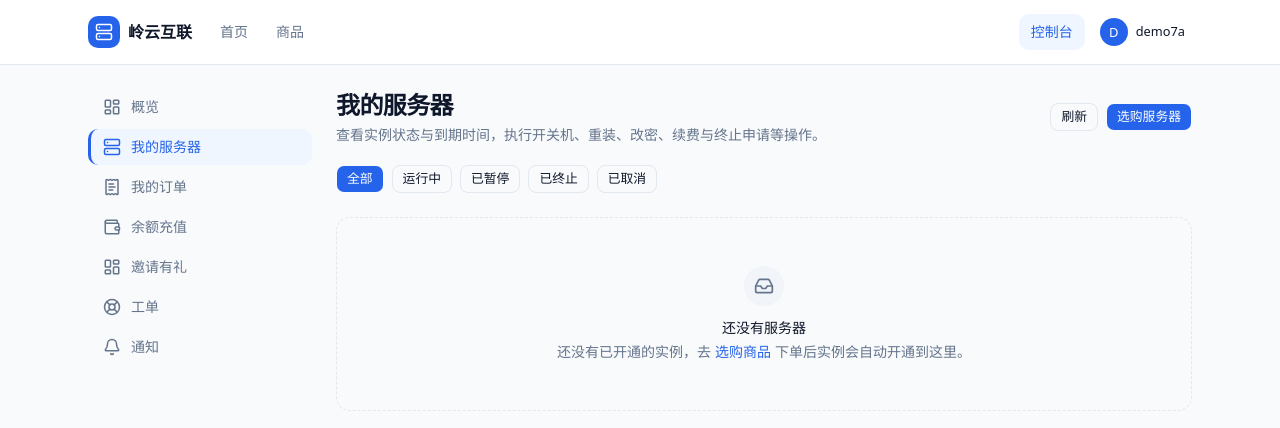
Test: 会员区 · 我的服务器列表 › 筛选结果为空时展示空态并提示换筛选
Expected: the heading "我的服务器" is shown, x1=336 y1=88 x2=453 y2=121
Expected: the text "还没有服务器" is shown, x1=722 y1=318 x2=806 y2=337
Step 1. Click the button "已终止" → (559, 179), box x1=528 y1=165 x2=589 y2=193
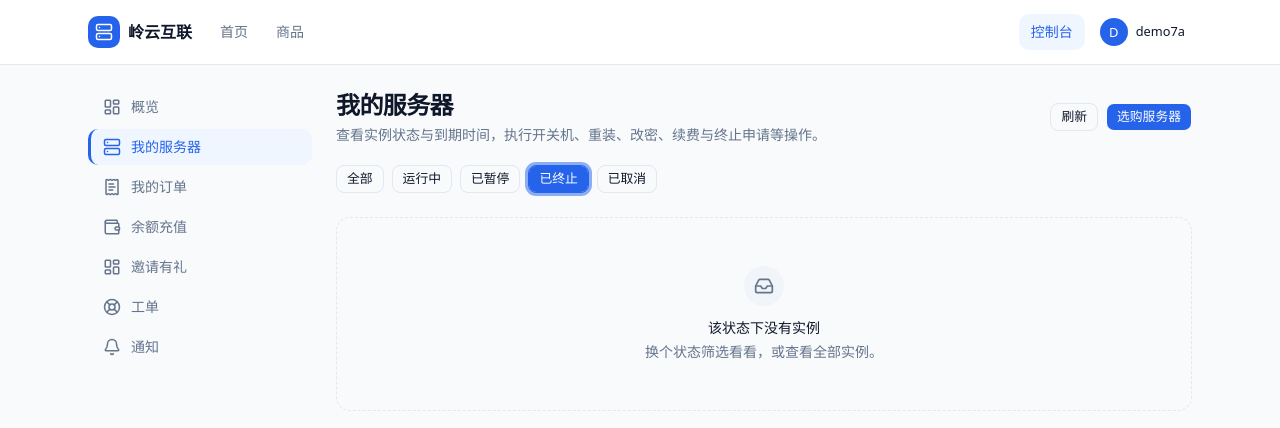
Expected: the text "该状态下没有实例" is shown, x1=708 y1=318 x2=820 y2=337
